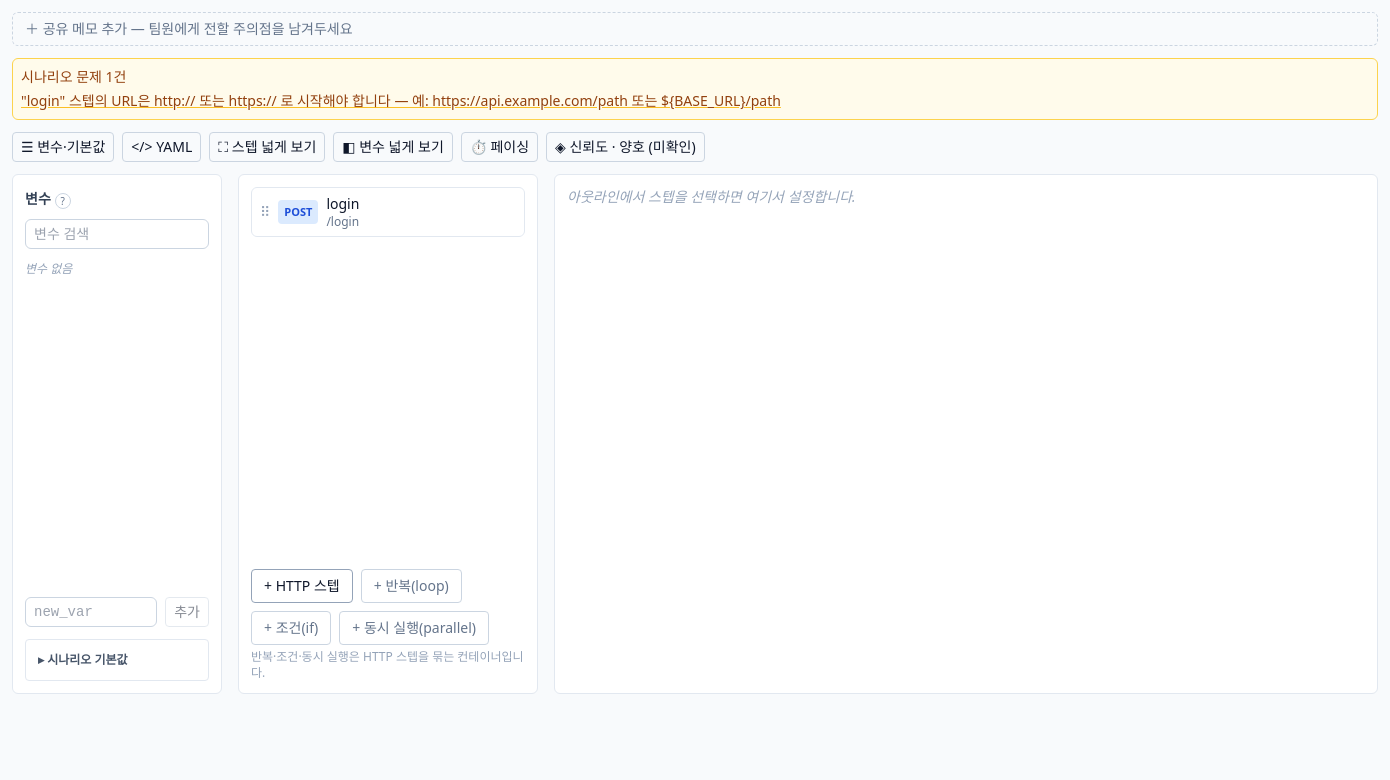
Scenario: EditorShell › 스텝 넓게 보기 토글 (R5/R10) › wide 칩 스트립 하드 캡 (editor-wide-view-overflow R3) › 펼치기 토글 부재 — expandable 미배선 락인 (overflow여도)
Click the button with aria-label "스텝 넓게 보기 전환" at (267, 147), box [209,132,325,162]
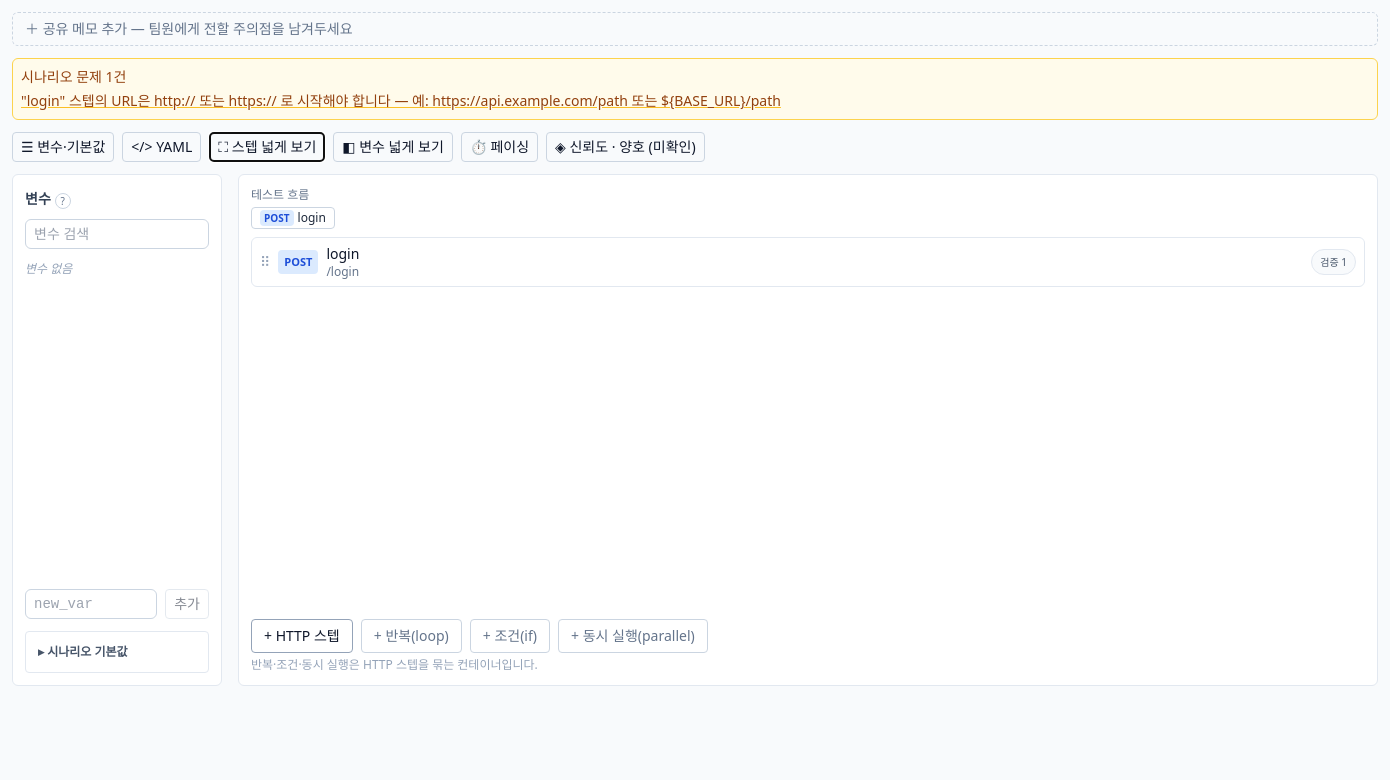
Now the element "테스트 흐름" is shown, box [251,186,335,229]
